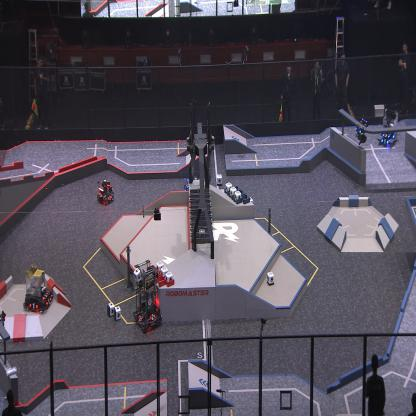car: (132, 258, 162, 332), (22, 262, 57, 313), (378, 108, 400, 147), (183, 172, 202, 202), (96, 176, 115, 204)
